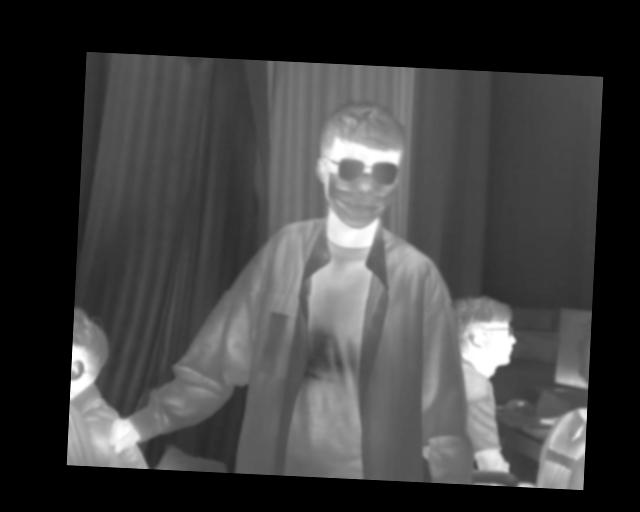face: (312, 98, 411, 233)
